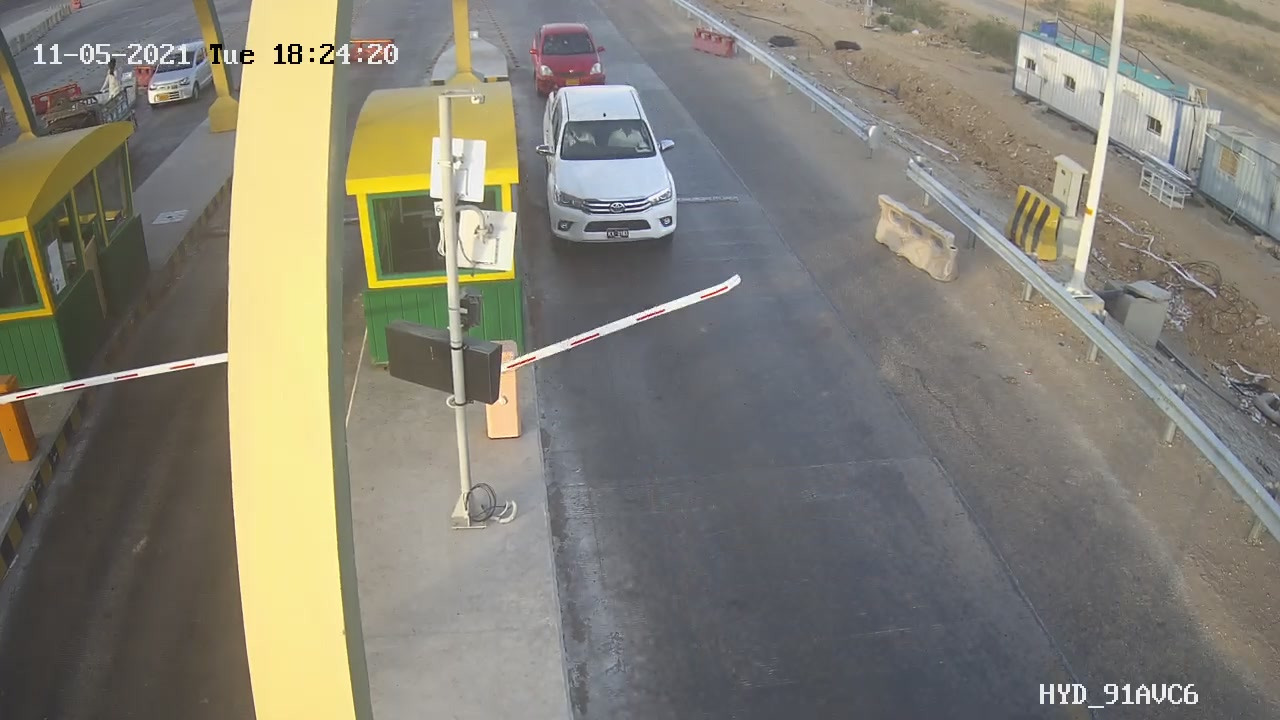F1: (524, 76, 697, 252)
